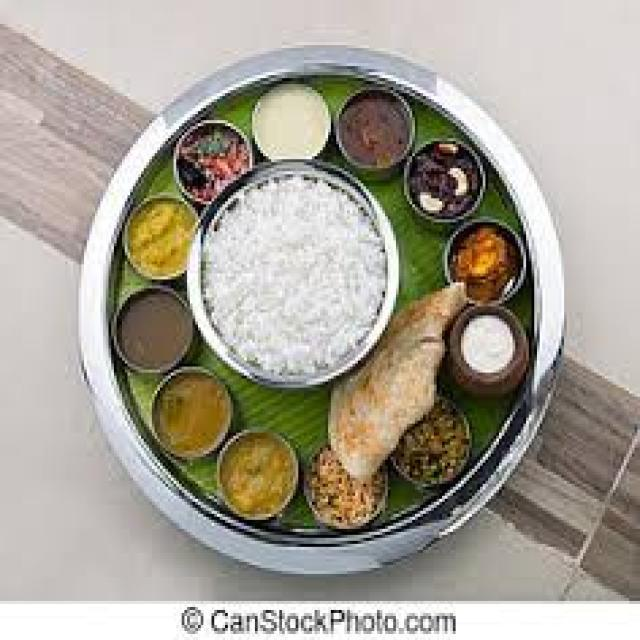curd: (445, 302, 538, 389)
dal: (250, 85, 332, 164)
papad: (323, 310, 445, 475)
pickle: (407, 146, 480, 217)
rice: (200, 182, 400, 381)
sambar-rasam: (212, 431, 305, 527), (440, 222, 526, 300), (110, 291, 192, 369), (339, 92, 414, 168)
